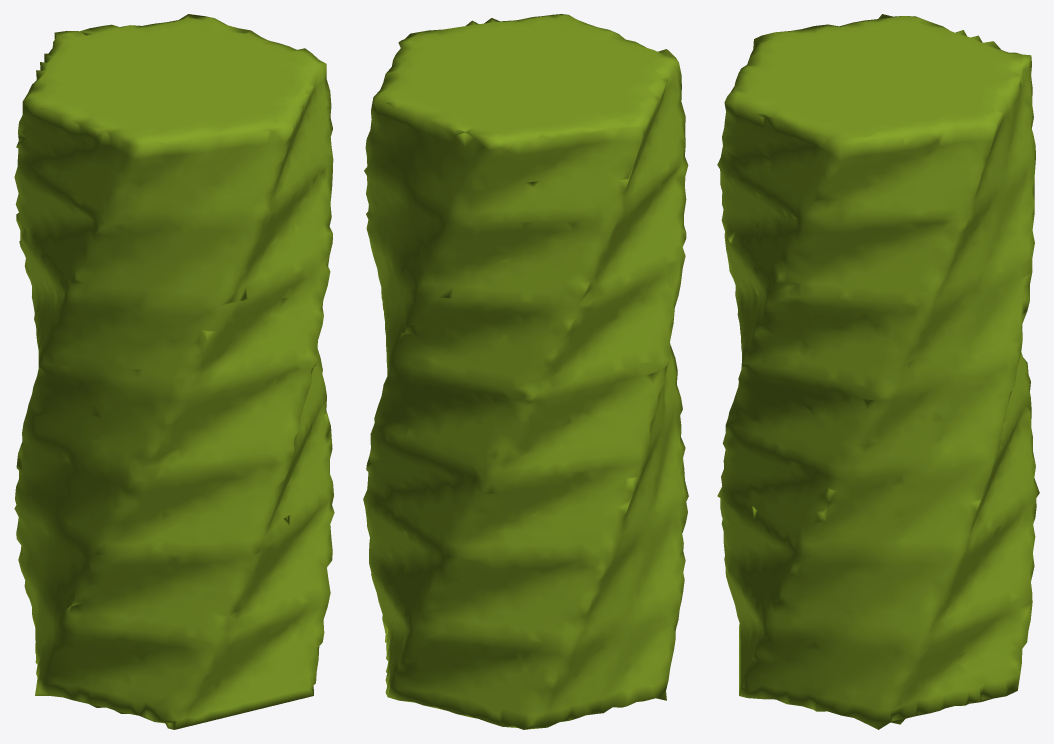
File: model_decimated.obj
3 renders of one model, left to right at view 1: azimuth 30°, elevation 25°; view 2: azimuth 150°, elevation 25°; view 3: azimuth 270°, elevation 25°, orthographic.
Bounding box in the file's own units: 13.88 × 27.78 × 13.88.
